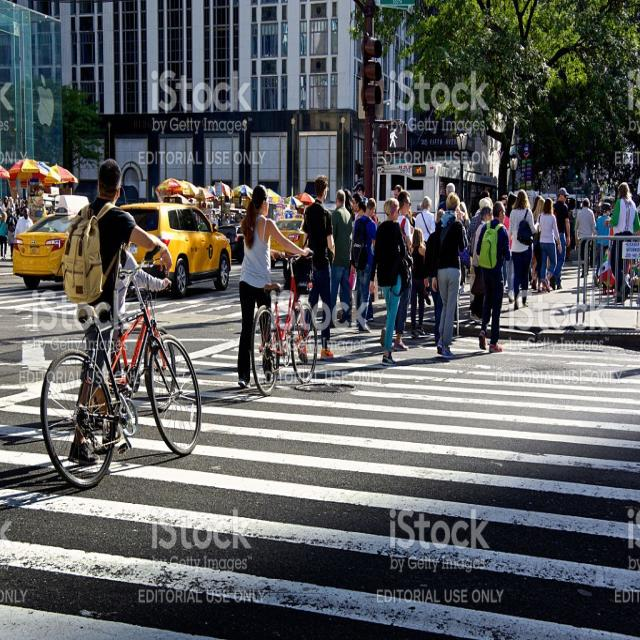body: (60, 153, 173, 467), (234, 182, 315, 392), (0, 408, 95, 507), (296, 171, 338, 364), (368, 195, 414, 369), (332, 331, 516, 368), (430, 190, 469, 360), (474, 199, 512, 354), (114, 237, 172, 320), (603, 181, 640, 304), (506, 187, 540, 310), (498, 286, 620, 318), (351, 196, 378, 335), (328, 188, 354, 329), (392, 189, 414, 352), (176, 359, 248, 408), (423, 208, 446, 346), (468, 205, 494, 326), (337, 188, 358, 328), (536, 194, 562, 292), (470, 205, 492, 315), (551, 186, 571, 292), (409, 227, 427, 337), (574, 197, 597, 279), (502, 191, 518, 304), (198, 197, 246, 228), (531, 197, 546, 294), (594, 201, 612, 278), (414, 194, 436, 249), (5, 206, 18, 261), (13, 206, 34, 240), (438, 182, 457, 215), (353, 180, 368, 217), (8, 192, 30, 213), (0, 210, 8, 261), (1, 194, 10, 231), (570, 197, 576, 247), (389, 182, 404, 198), (459, 199, 469, 223), (532, 195, 542, 211), (483, 190, 495, 202), (501, 190, 509, 208), (437, 205, 445, 222), (407, 206, 414, 224), (0, 194, 2, 225)
